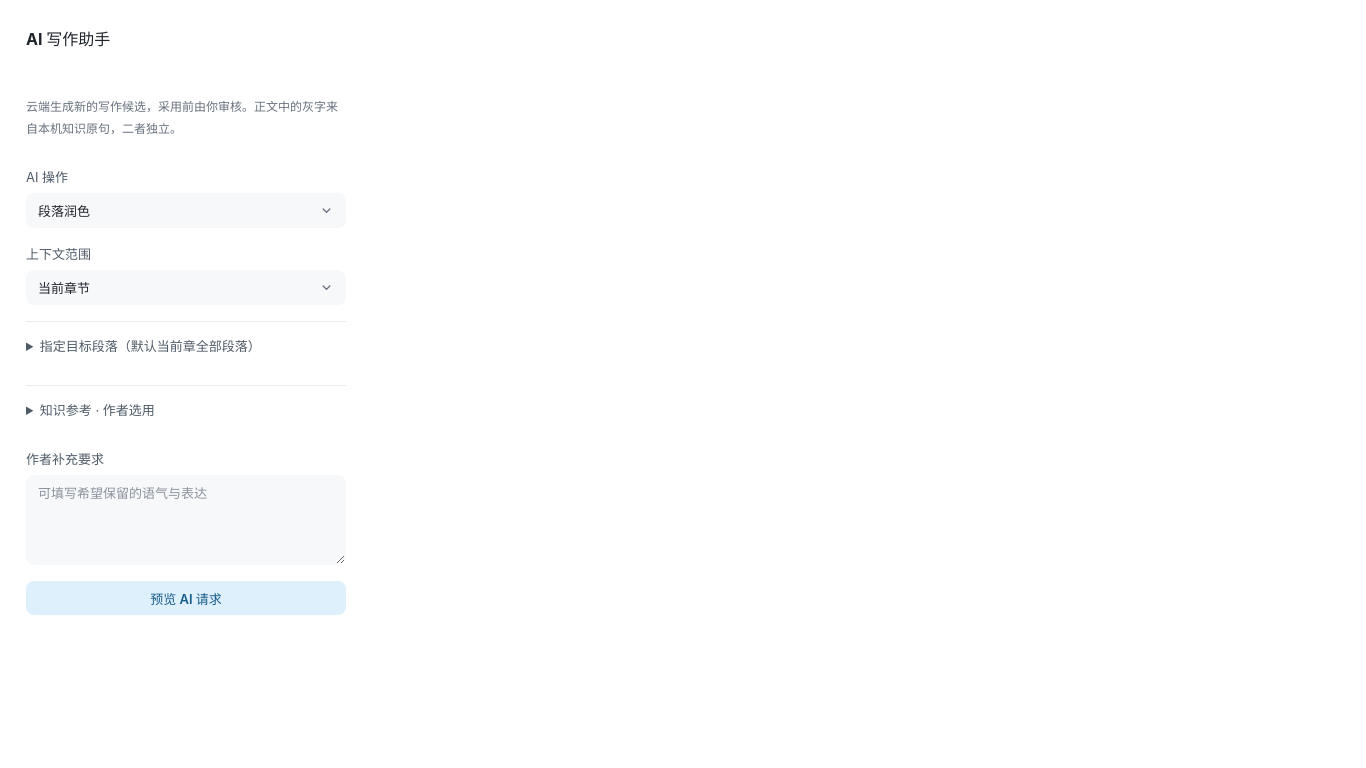
Scenario: 预览完整发送范围与计费后明确确认才执行，候选必须再次确认写入
Expected: the dropdown named "上下文范围" reads "当前章节", left=26, top=270, right=346, bottom=305
Click the button "预览 AI 请求": (186, 598) left=26, top=581, right=346, bottom=615
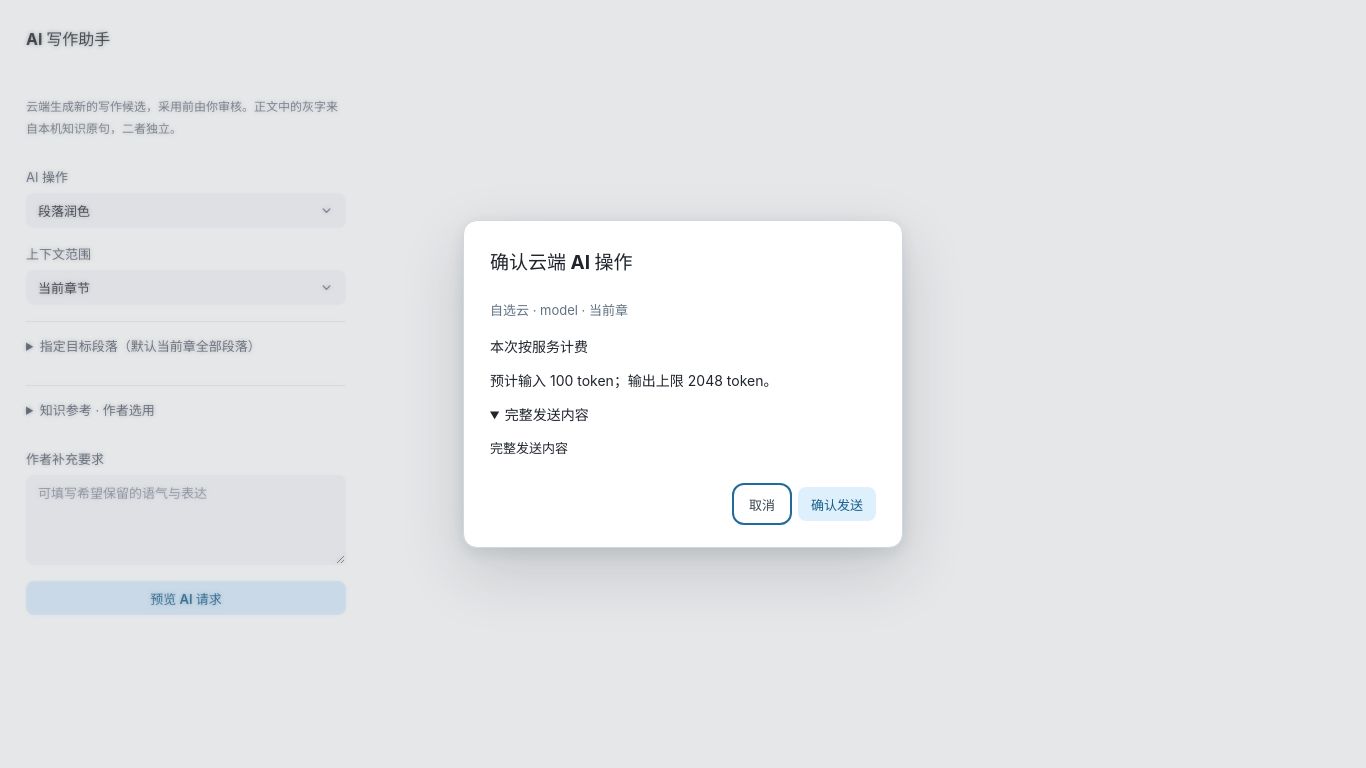
Now the dialog shows "完整发送内容", box left=505, top=406, right=589, bottom=423
Now the dialog shows "本次按服务计费", box left=490, top=338, right=588, bottom=355
Click the button "确认发送": (837, 504) left=798, top=487, right=876, bottom=521
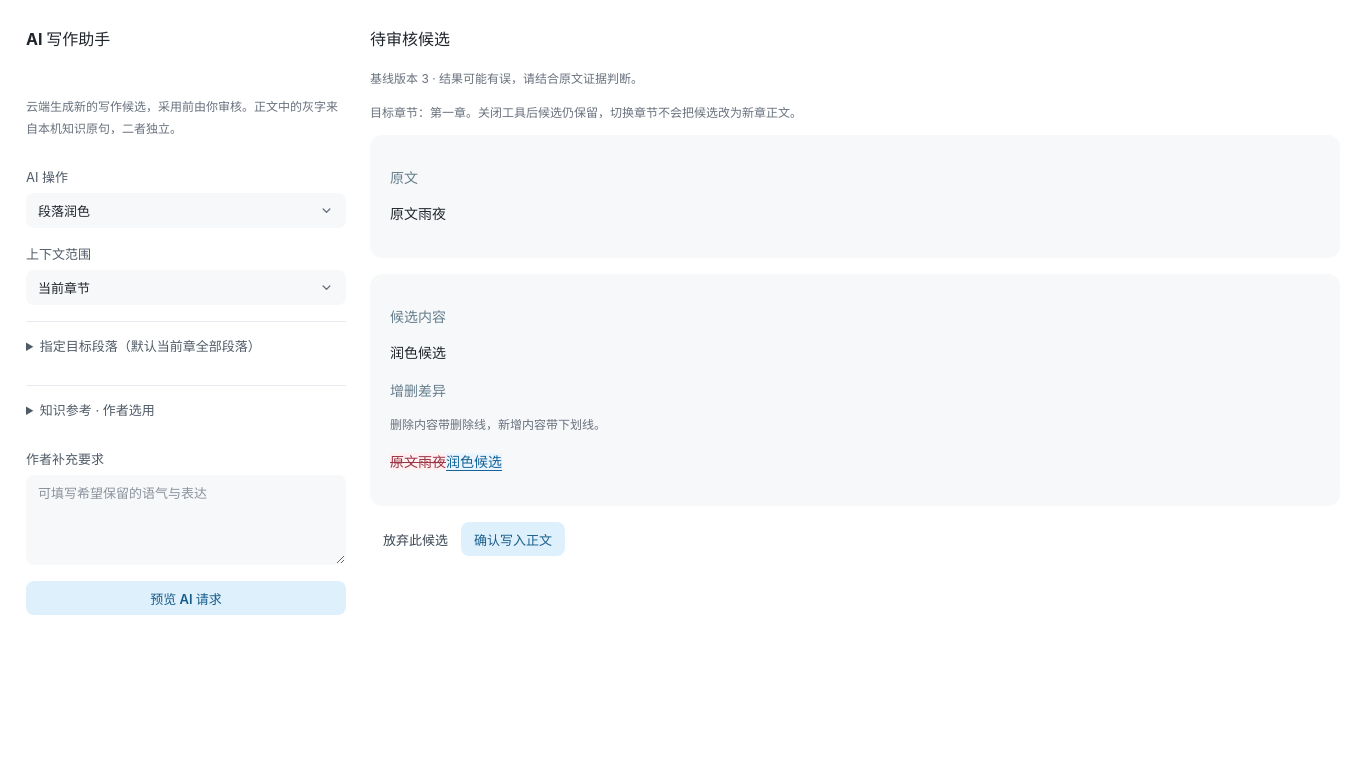
Now the 1st text "润色候选" is shown, box left=390, top=344, right=446, bottom=361
Now the element named "原文对比" shows "原文雨夜", box left=390, top=205, right=446, bottom=222
Click the button "确认写入正文": (513, 539) left=461, top=522, right=565, bottom=556
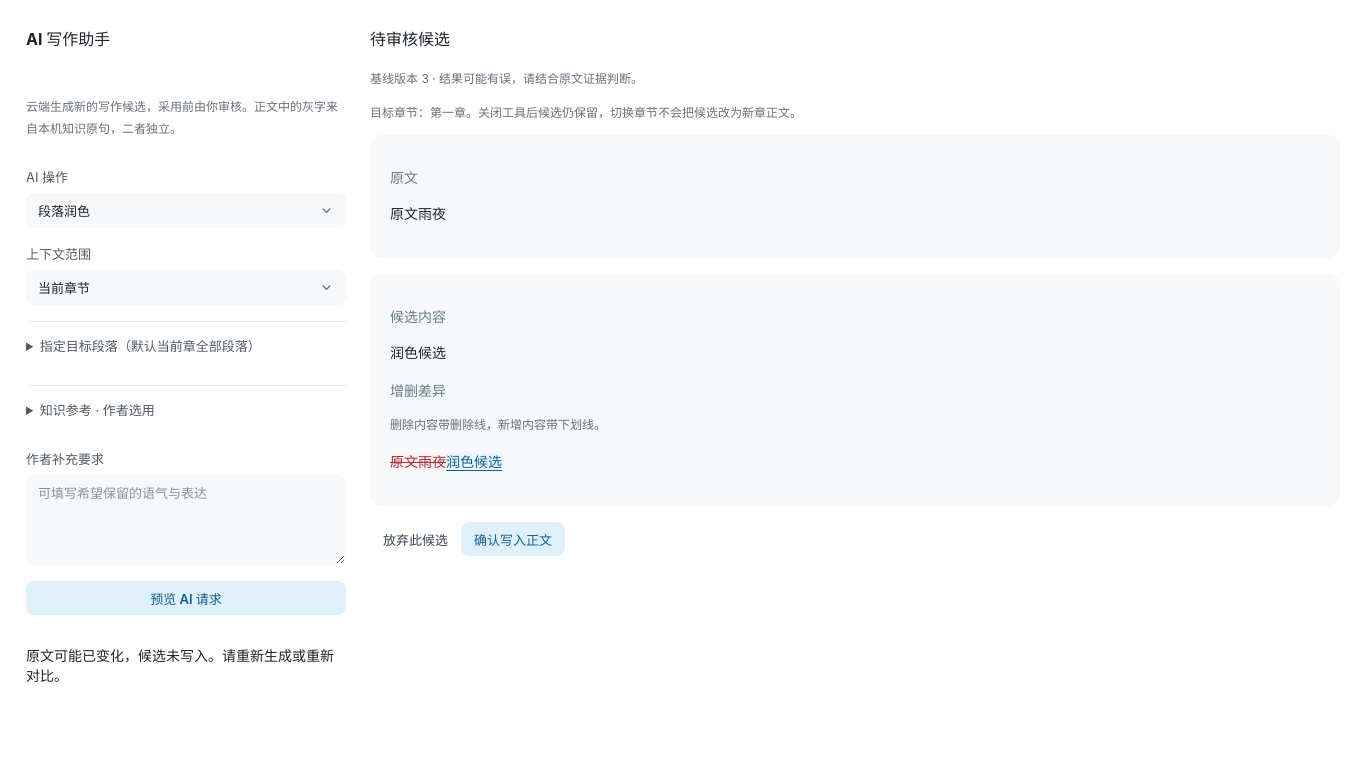
Now the 1st text "润色候选" is shown, box left=390, top=344, right=446, bottom=361
Now the message reads "原文可能已变化，候选未写入。请重新生成或重新对比。", box left=26, top=647, right=334, bottom=684
